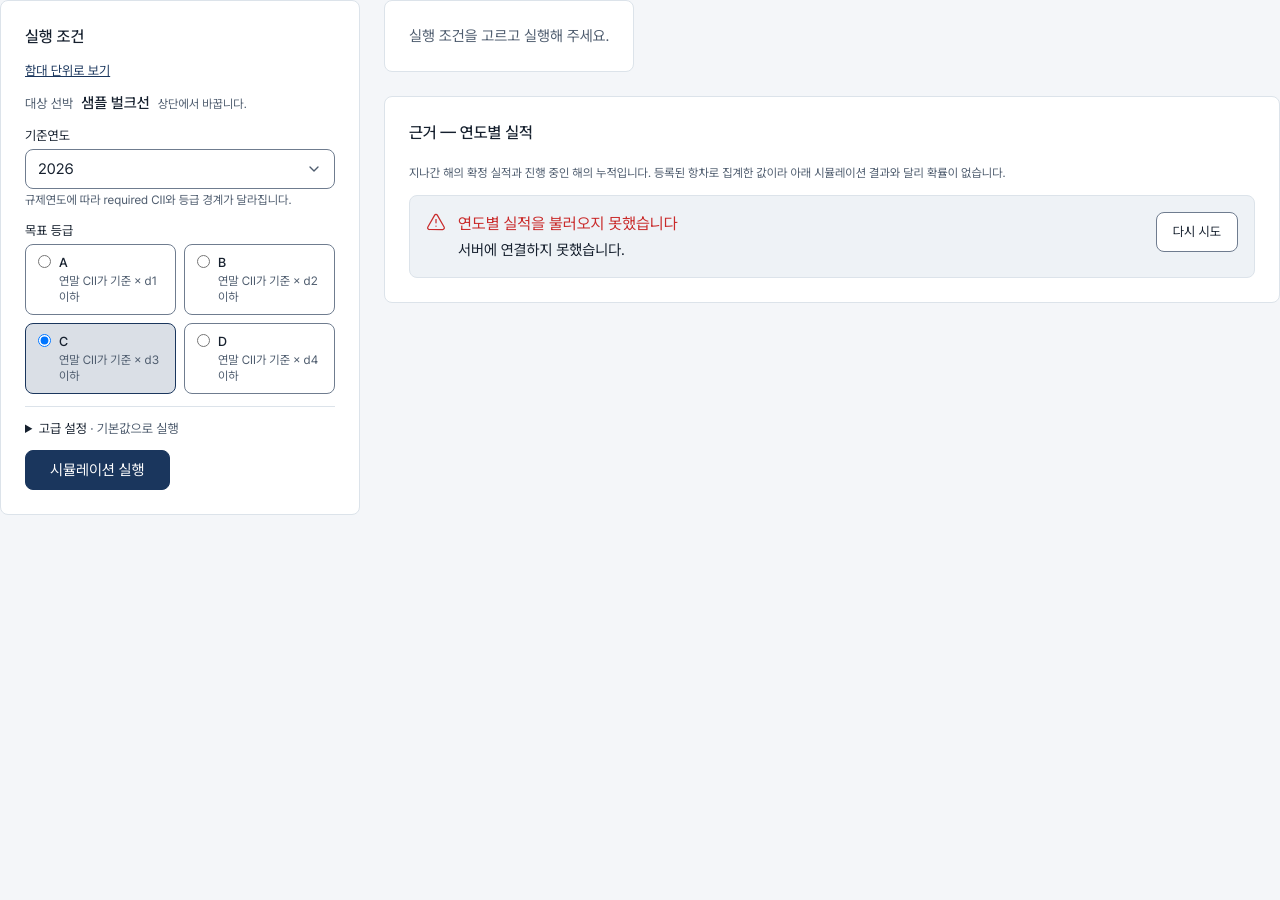
⑷ 이력 실패는 블록 안에서만 — `PRD §16.2` 오류 격리 › 실패는 블록 안 알림과 「다시 시도」로 끝나고, 시뮬레이션은 그대로 실행된다
Check: the message shows "연도별 실적", box [458,214,678,233]
Check: the message shows "서버에 연결하지 못했습니다.", box [458,241,625,259]
Click the button "시뮬레이션 실행".
click(97, 470)  # box [25,450,170,490]
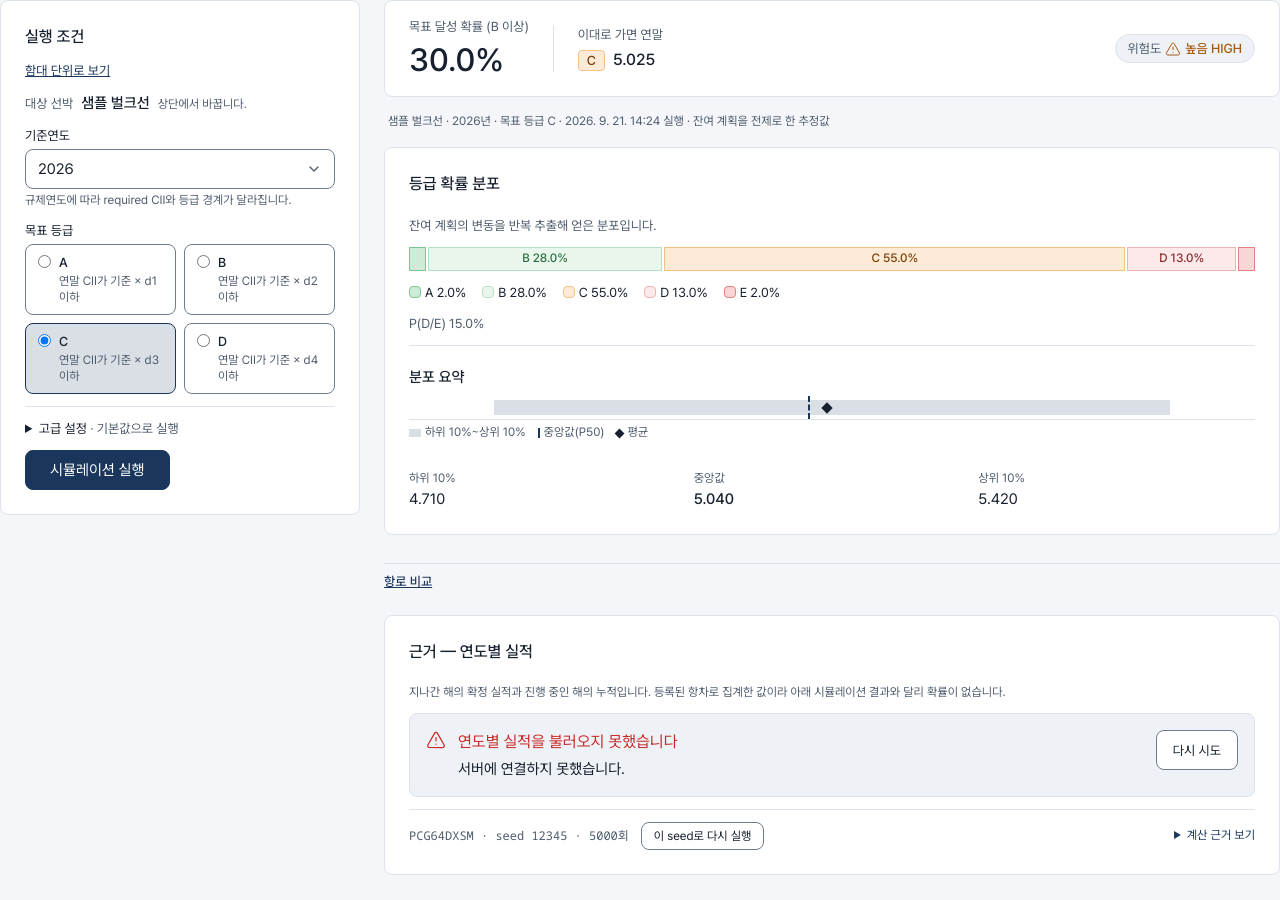
Check: the button "이 seed로 다시 실행" is shown, box [641,822,764,850]
Check: the element named "결론" is shown, box [384,0,1279,97]
Click the button "다시 시도".
click(1197, 750)  # box [1156,730,1238,770]
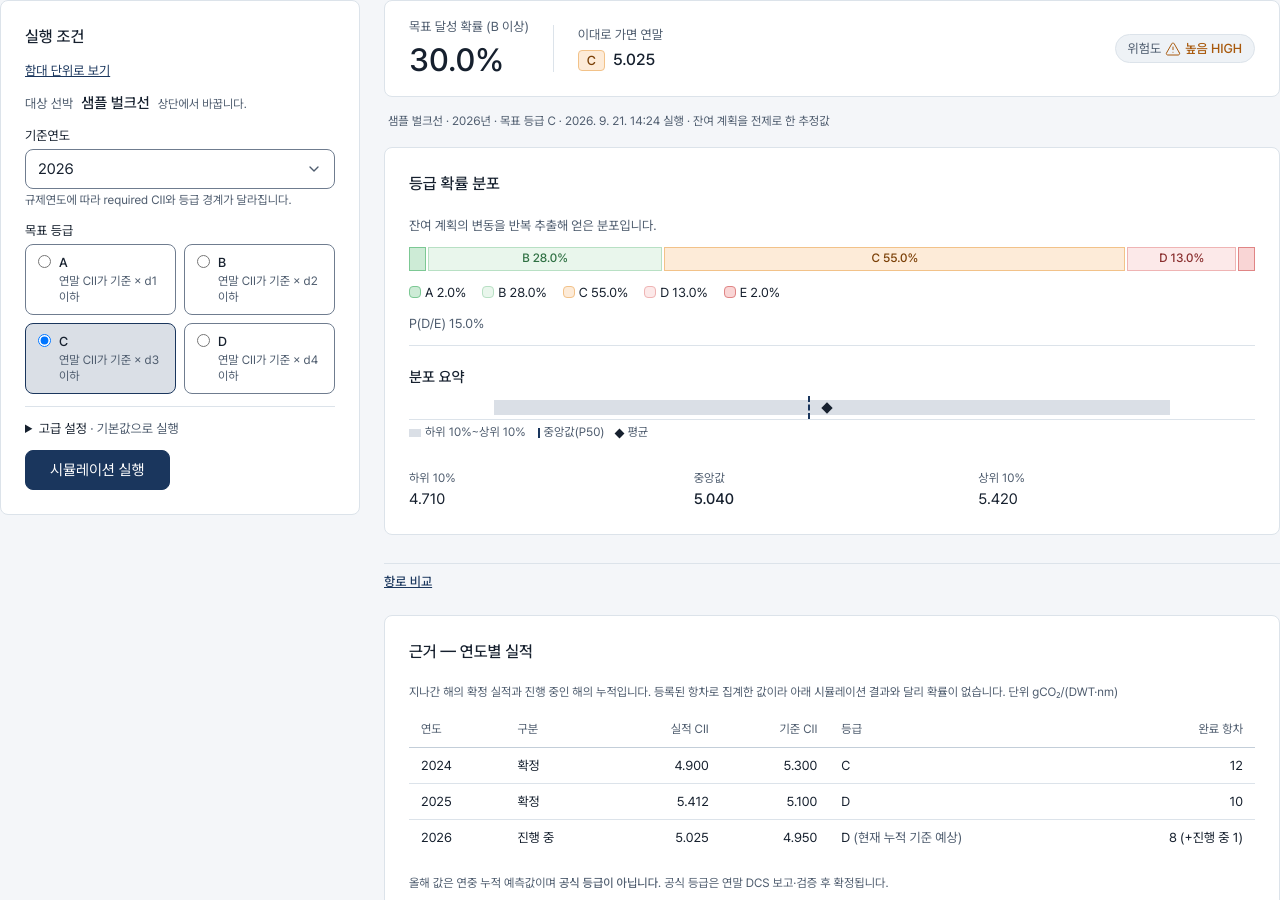
Check: the table is shown, box [409,713,1255,855]
Check: the message "연도별 실적을 불러오지 못했습니다 서버에 연결하지 못했습니다. 다시 시도" is gone
